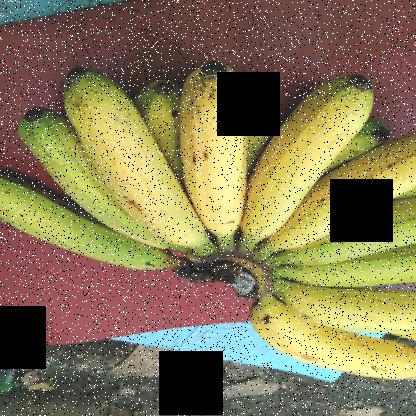freshripe: (57, 65, 194, 250), (236, 74, 386, 242), (168, 59, 256, 239), (233, 302, 415, 388), (278, 292, 415, 339)
